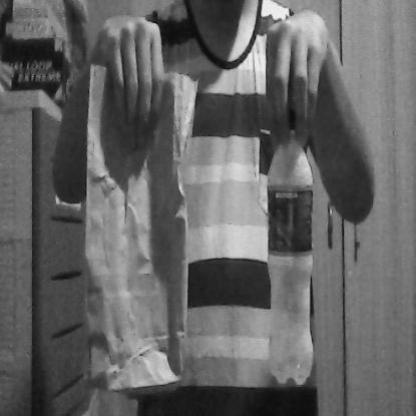Plastic Bottle: (261, 92, 321, 395)
